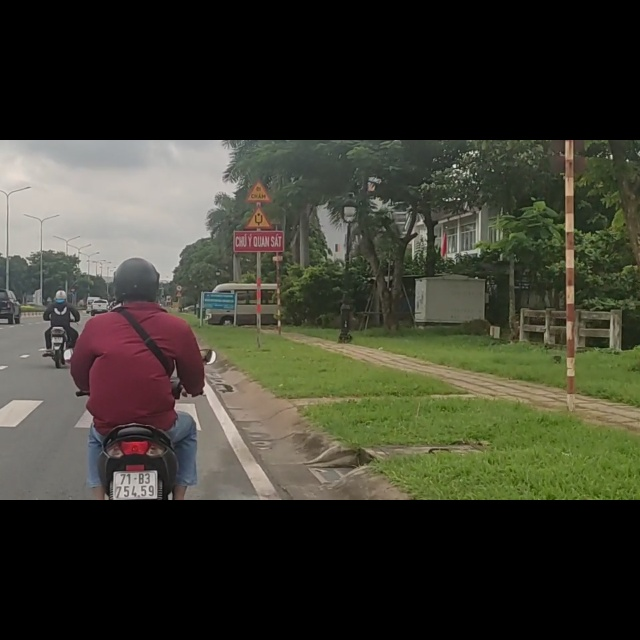bien_cam: (245, 120, 273, 159), (246, 71, 272, 110), (70, 261, 77, 270), (70, 270, 76, 280)
